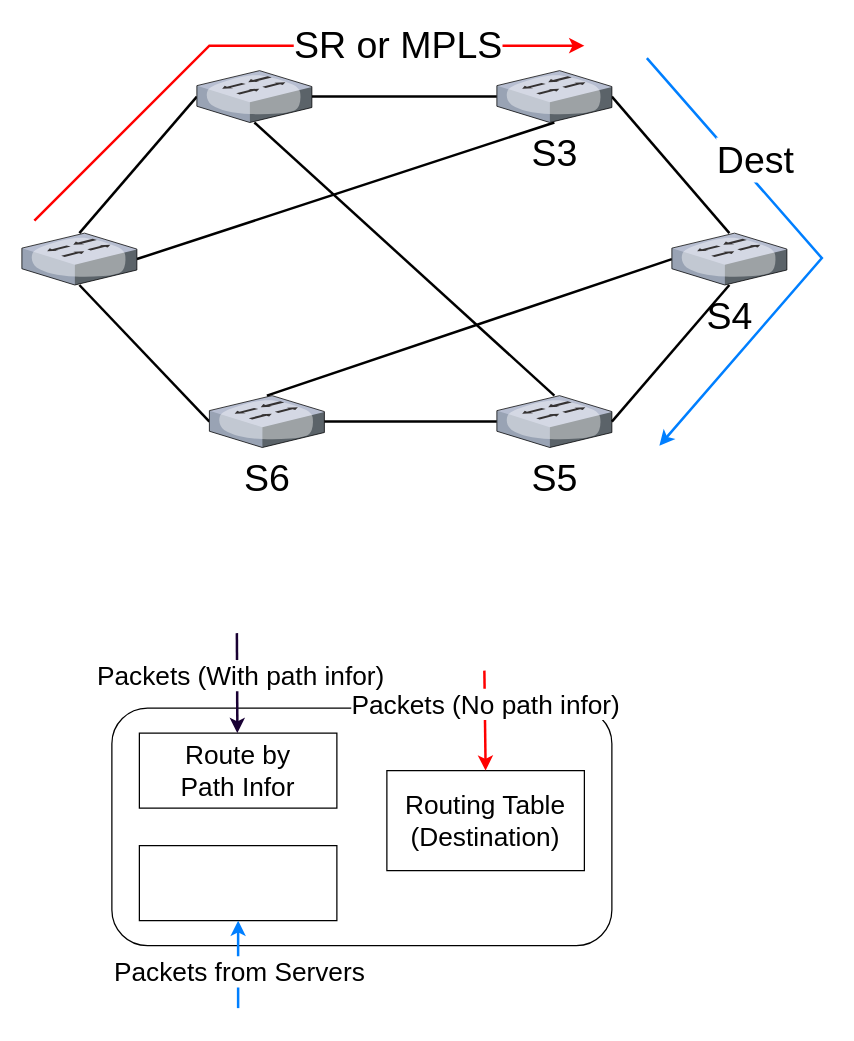
This 854x1041 diagram has some shape labels left out. The shapes that lost their labels are listed below. From the top down, each one's centre as x and y in pixels, then its label:
pixel 253 96: S2
pixel 78 258: S1
pixel 237 882: Routing Table (SR)
